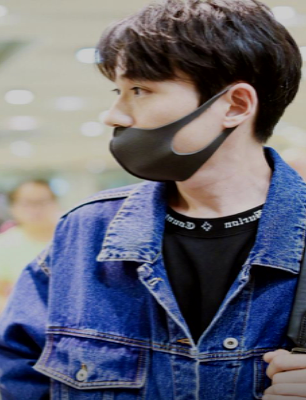mask_weared_incorrect: (103, 72, 216, 182)
